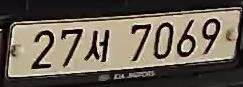0: (152, 22, 175, 60)
2: (30, 28, 55, 73)
6: (176, 16, 199, 60)
7: (57, 26, 83, 69), (127, 21, 153, 63)
9: (199, 16, 223, 56)
서: (84, 27, 113, 64)
